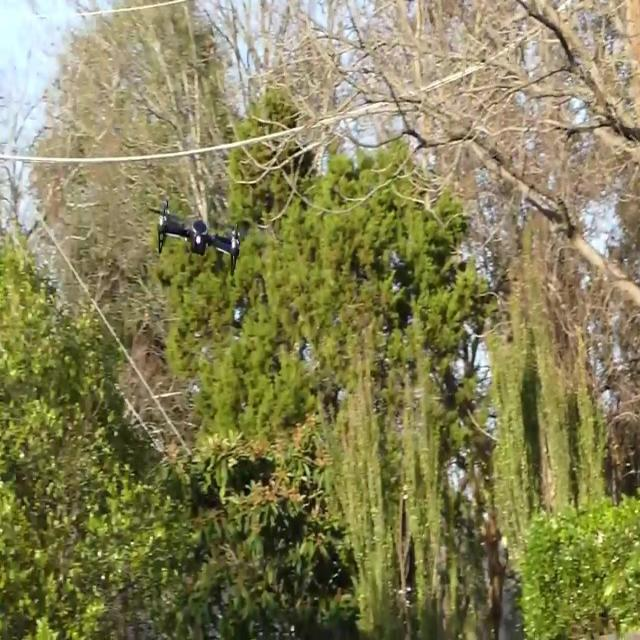drone: (150, 197, 244, 280)
